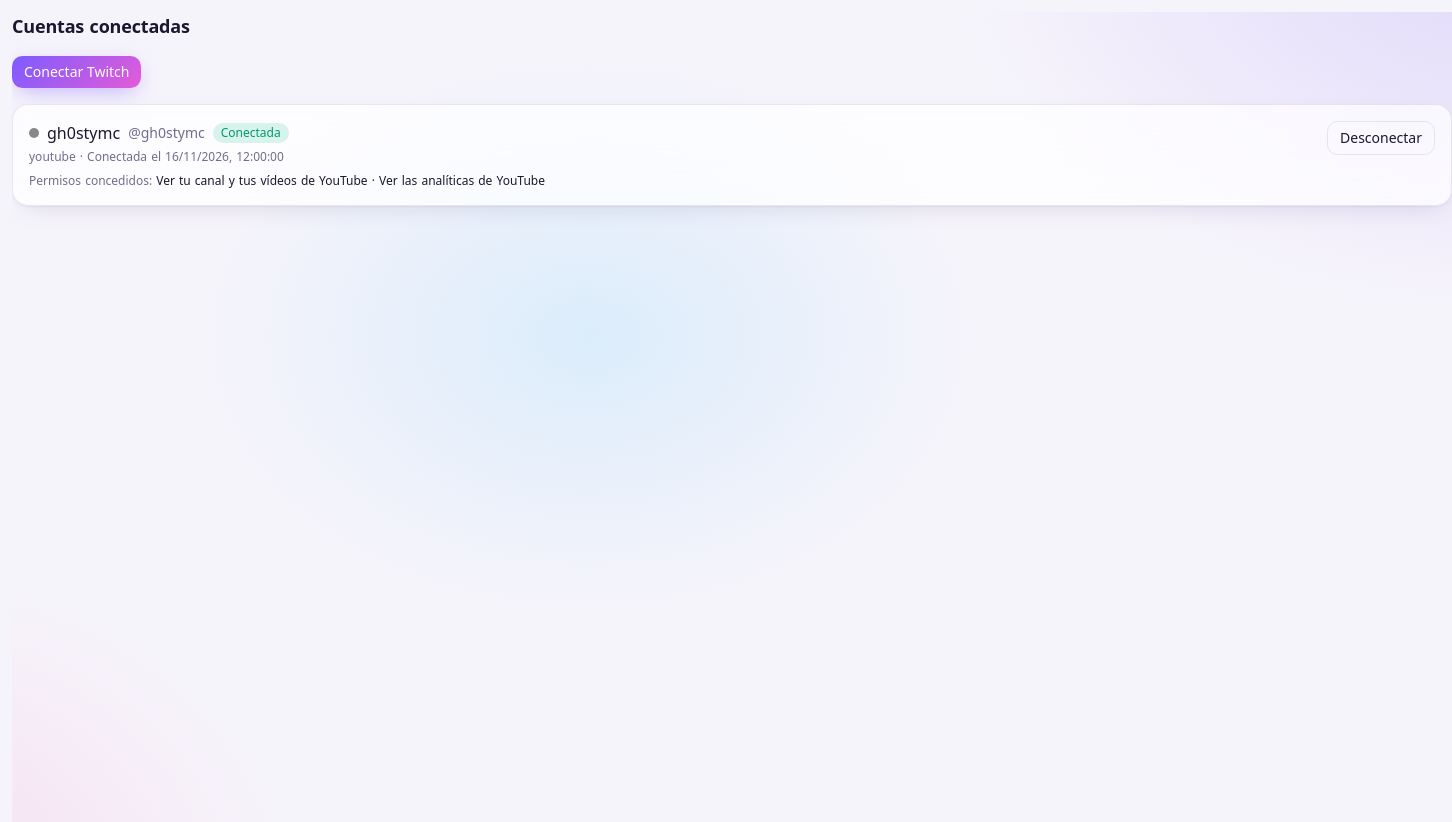
Test: AccountsSection › shows the device code for Twitch while waiting
The width and height of the screenshot is (1452, 822).
Later steps or results of the test are not shown.
Click the button "Conectar Twitch" at (77, 72), box [12,56,142,88]
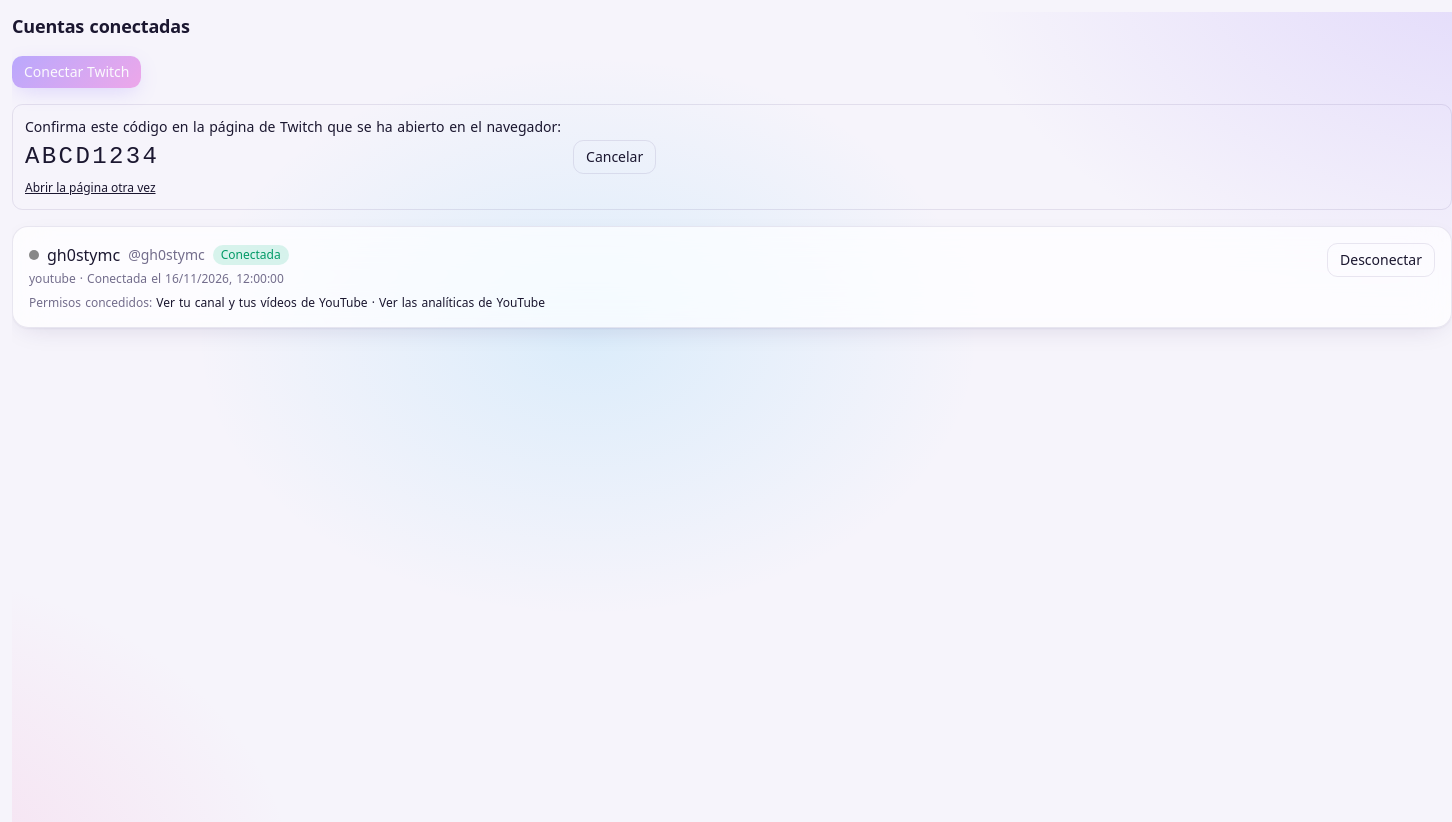
Now the text "ABCD1234" is shown, box [25,143,159,170]
